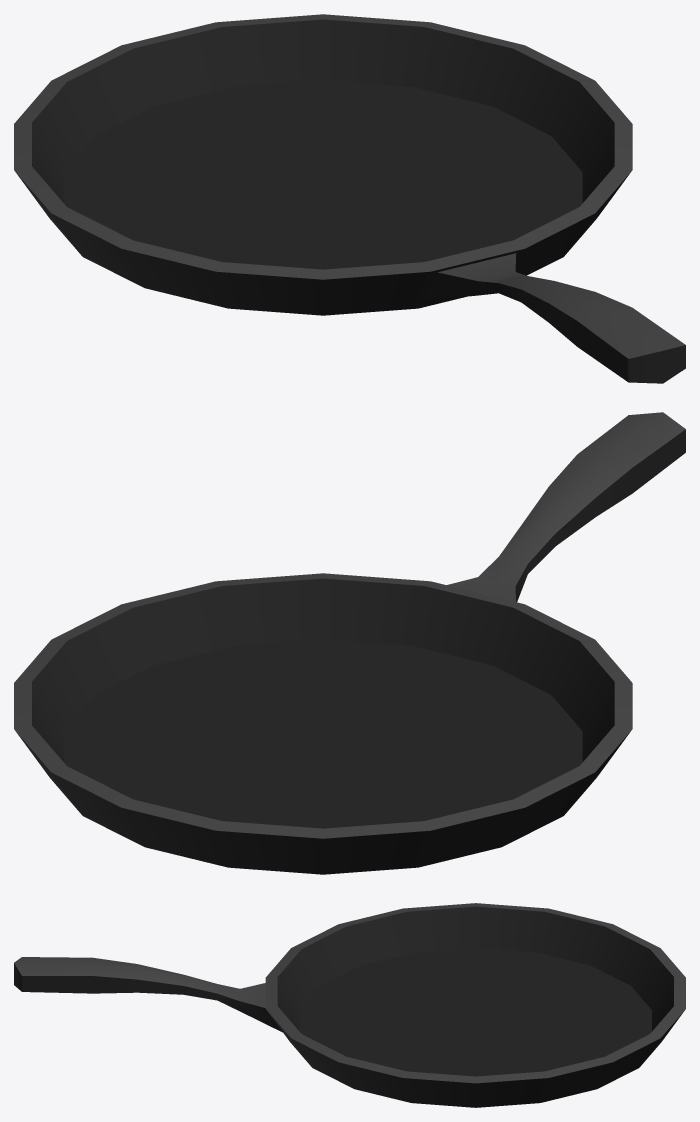
The model's file is Frying_Pan_3.fbx.
3 renders of one model, top to bottom at view 1: azimuth 30°, elevation 25°; view 2: azimuth 150°, elevation 25°; view 3: azimuth 270°, elevation 25°, orthographic. The views are drawn at different scales.
Visible parts, largest first — view 1: Frying_Pan; view 2: Frying_Pan; view 3: Frying_Pan.
Part boxes in pixels (x1,y1,x2,y2): Frying_Pan: [14, 14, 685, 383]; Frying_Pan: [14, 412, 685, 874]; Frying_Pan: [14, 903, 685, 1107].
Size of the model in its own units: 28.62 by 4.9 by 45.06.
Materials: 1 (1 with a texture image).
